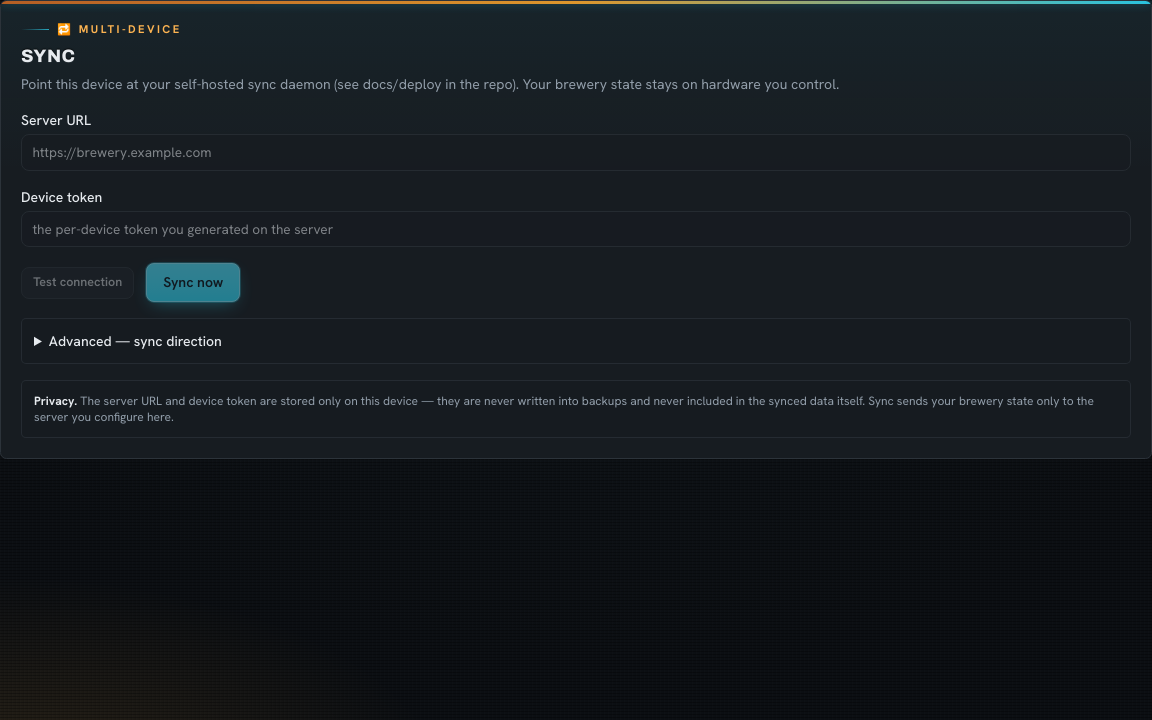
Scenario: SyncSection (Settings → Sync) › Test connection: green with daemon version when compatible
The width and height of the screenshot is (1152, 720).
Step 1. Type "https://ok.example.com" into the field named "Sync server URL" → (576, 152), box [21, 134, 1131, 171]
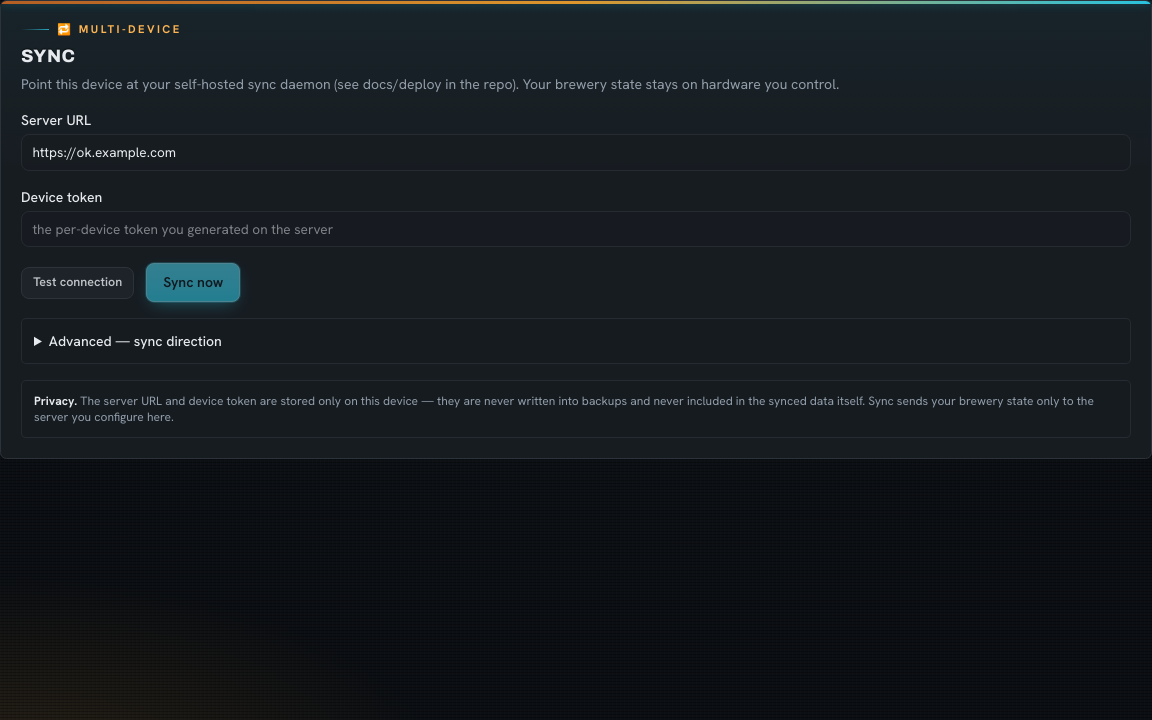
Step 2. Click the button "Test connection" → click(78, 283), box [21, 267, 134, 299]
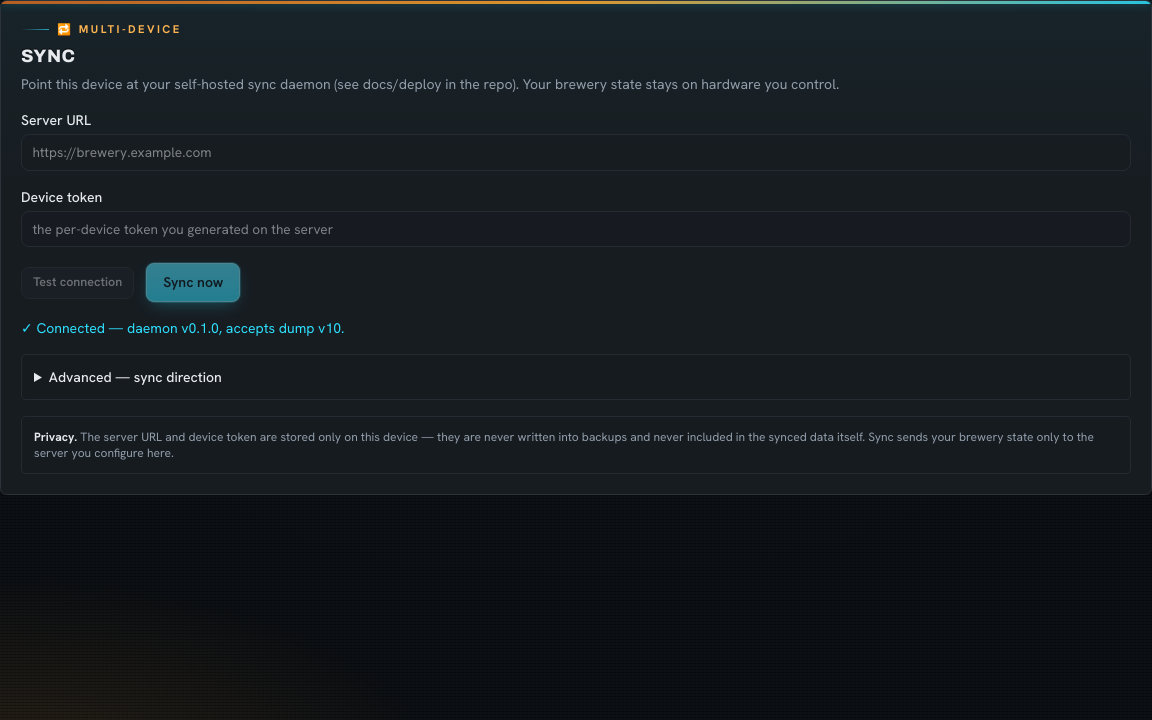
Check: the text with test id "sync-test-ok" shows "daemon v0.1.0", box [36, 319, 344, 337]
